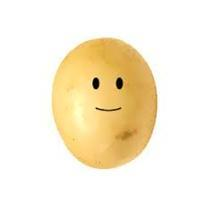biodegradable: (50, 37, 159, 170)
